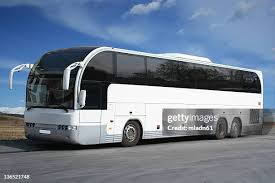bus: (8, 46, 265, 148)
